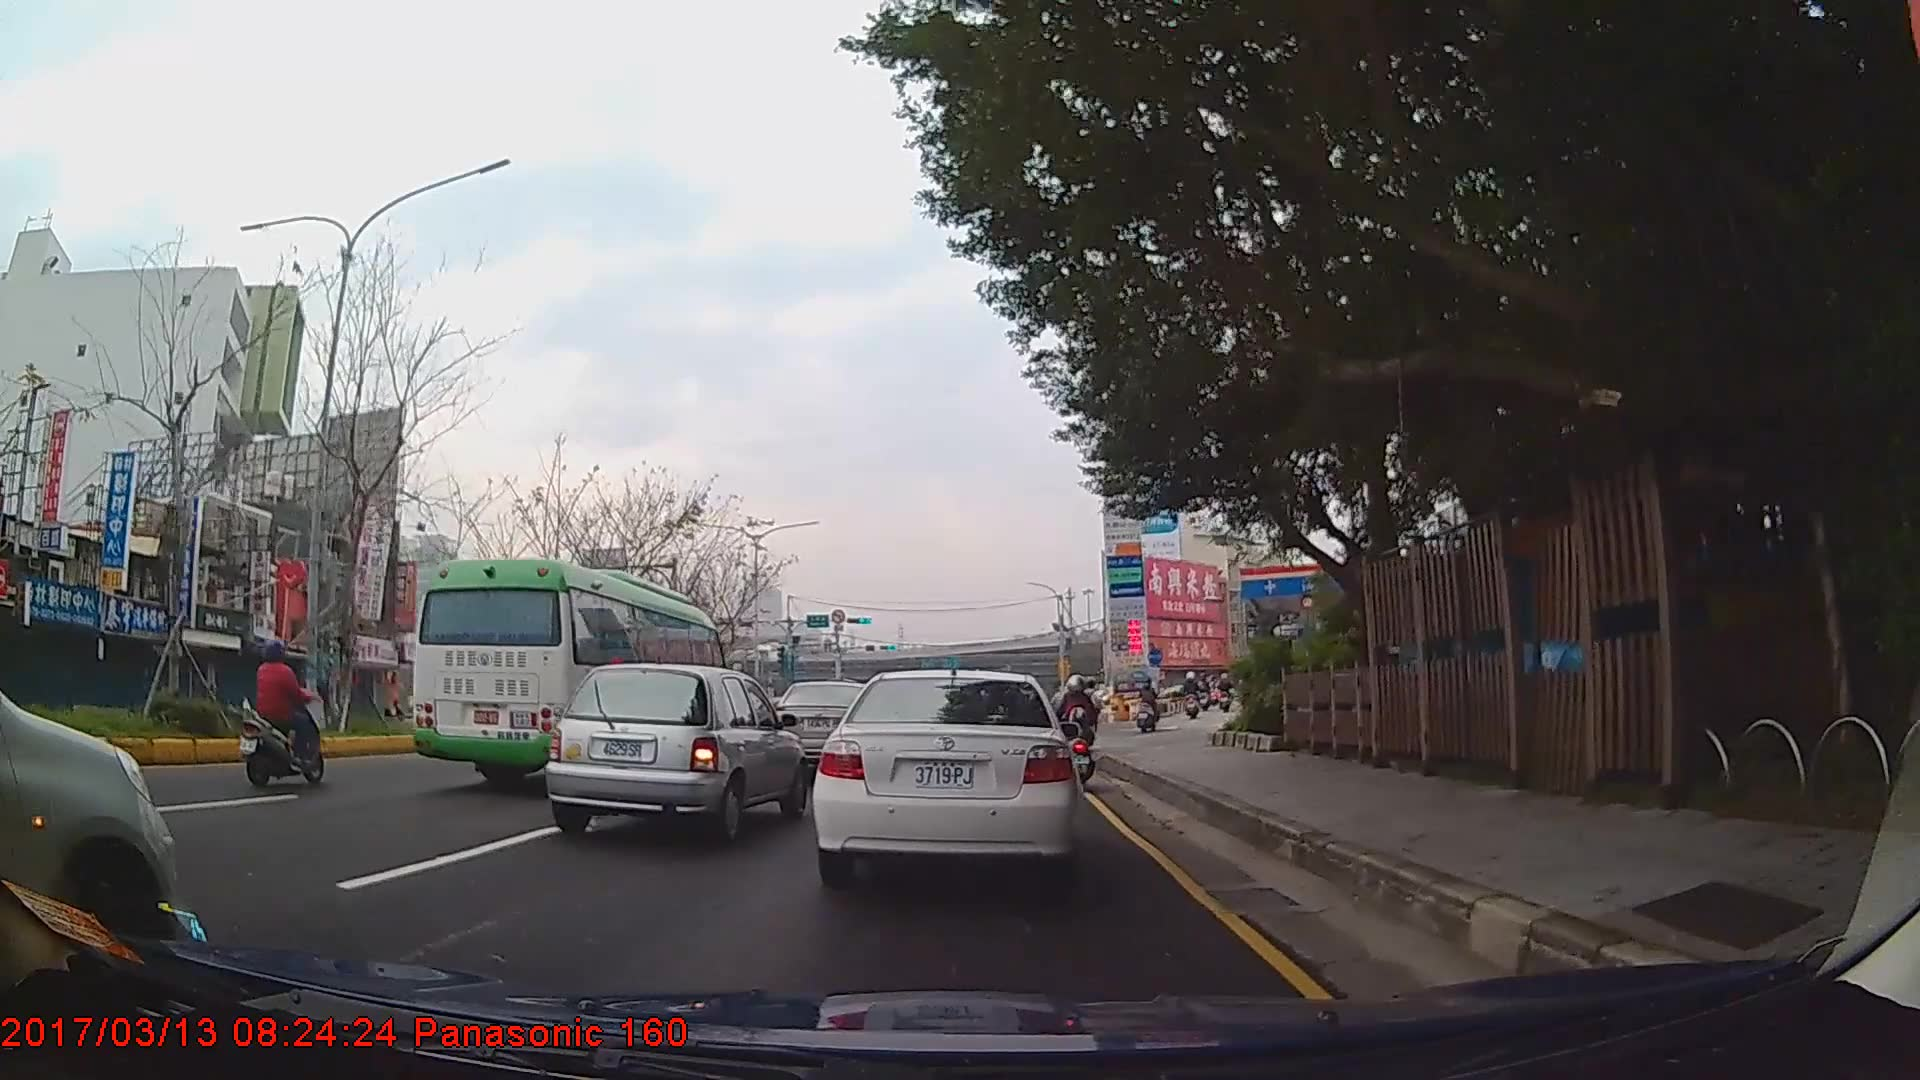rider: (233, 633, 324, 793), (1060, 673, 1102, 787), (1138, 676, 1160, 731), (1181, 670, 1201, 720)
vehicle: (402, 553, 729, 795), (810, 666, 1083, 886), (545, 661, 806, 850), (770, 681, 887, 776)
